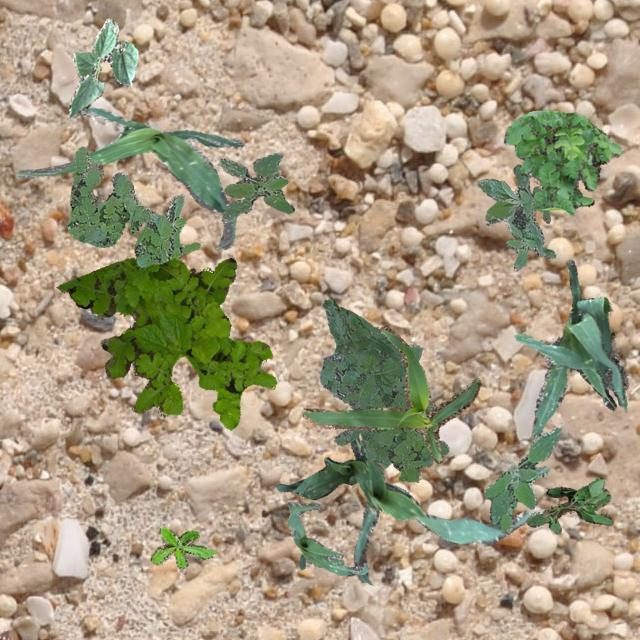crop: (16, 106, 242, 248), (350, 434, 530, 584), (302, 324, 480, 462), (514, 258, 626, 438), (68, 18, 138, 116), (286, 500, 368, 574), (274, 444, 370, 498)
weed: (56, 256, 276, 428), (318, 298, 448, 482), (65, 146, 198, 266), (502, 110, 620, 214), (482, 426, 560, 534), (476, 164, 554, 268), (218, 152, 292, 222), (526, 476, 612, 534), (150, 526, 213, 568)
